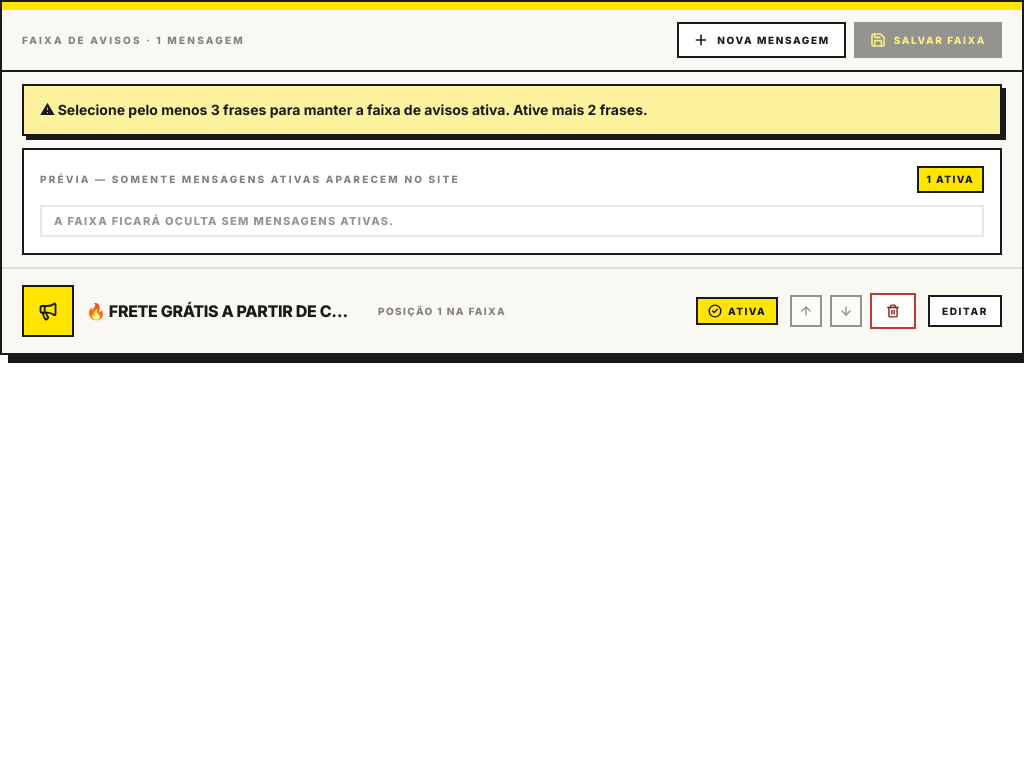
Test case: MarqueeGroup › avisa quando a faixa ficaria oculta e quando o dado dinâmico não existe
Expected: the text "A faixa ficará oculta sem mensagens ativas." is shown, [42,213,406,229]
Click the button with aria-label "editar 🔥 frete grátis a partir de": (965, 311) [928,295,1002,327]
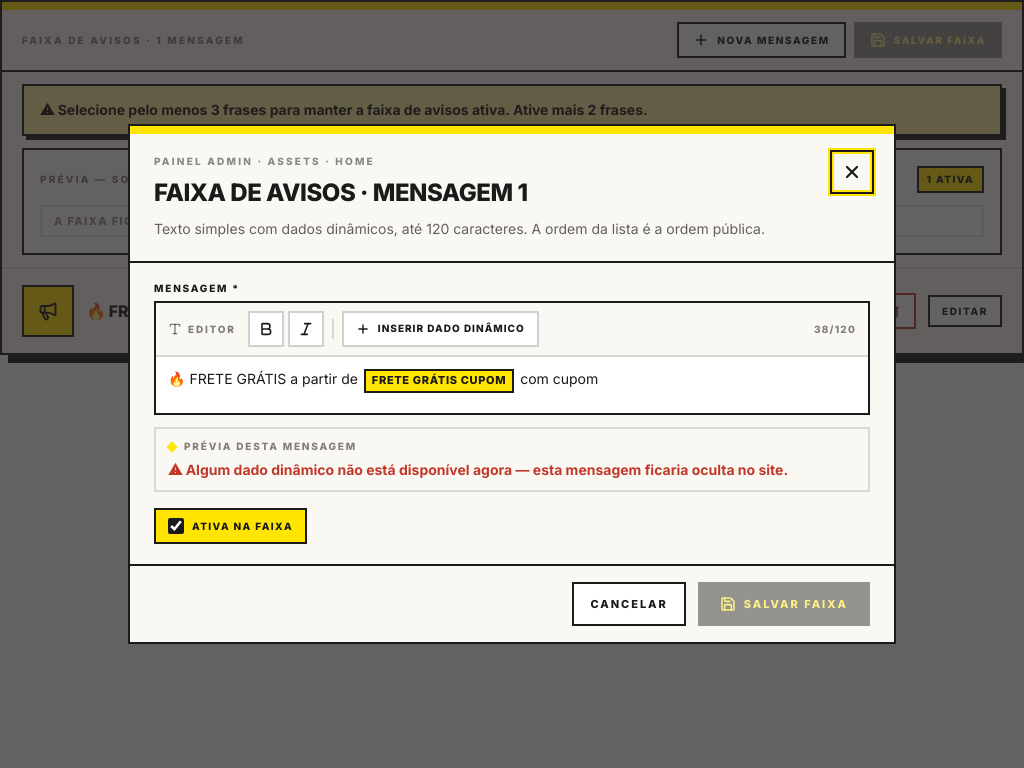
Now the text "esta mensagem ficaria oculta no site" is shown, box [168,461,788,478]
